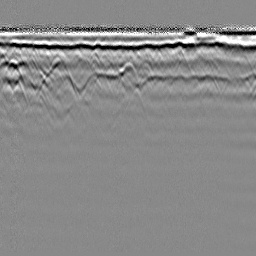cavity: (118, 59, 138, 82)
